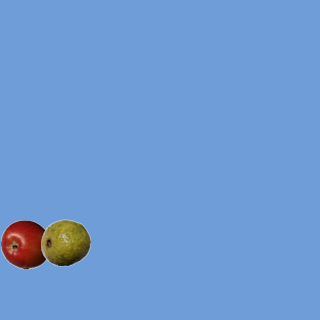Apple Braeburn: (0, 219, 50, 269)
Guava: (40, 217, 90, 267)
